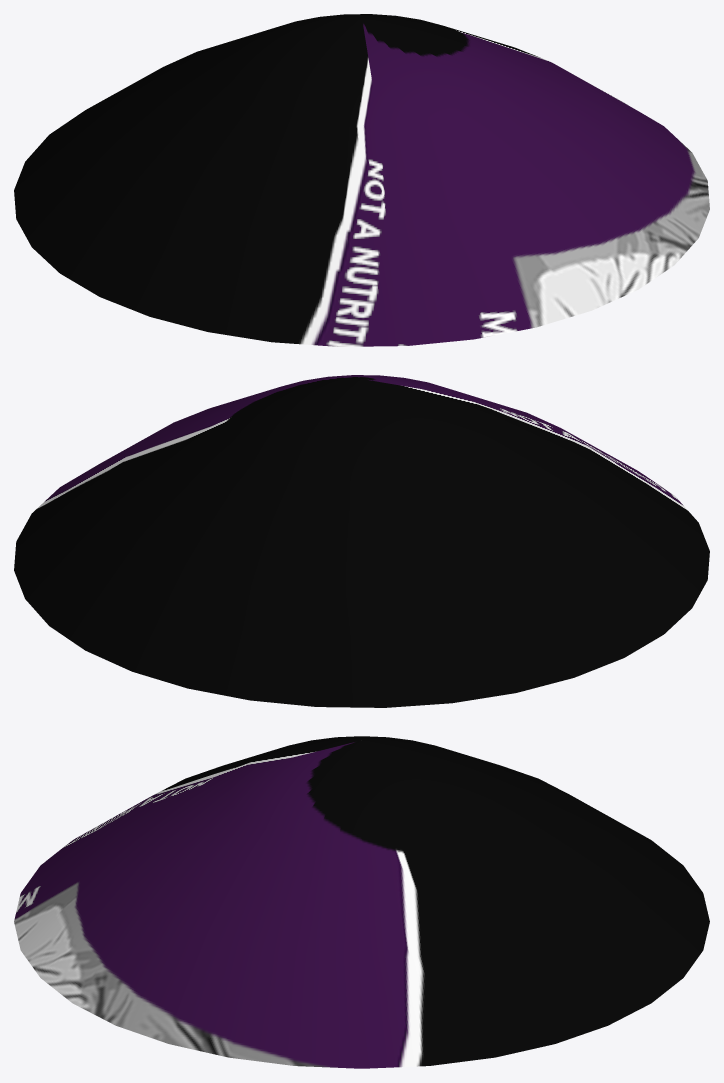
The model's file is salt.obj.
3 renders of one model, top to bottom at view 1: azimuth 30°, elevation 25°; view 2: azimuth 150°, elevation 25°; view 3: azimuth 270°, elevation 25°, orthographic.
Visible parts, largest first — view 1: Sphere001; view 2: Sphere001; view 3: Sphere001.
Boxes of the visible parts, x1=… form: Sphere001: x1=14, y1=14, x2=709, y2=346; Sphere001: x1=14, y1=375, x2=709, y2=707; Sphere001: x1=14, y1=736, x2=709, y2=1068.
Size of the model in its own units: 21.9 by 6.3 by 21.9.
